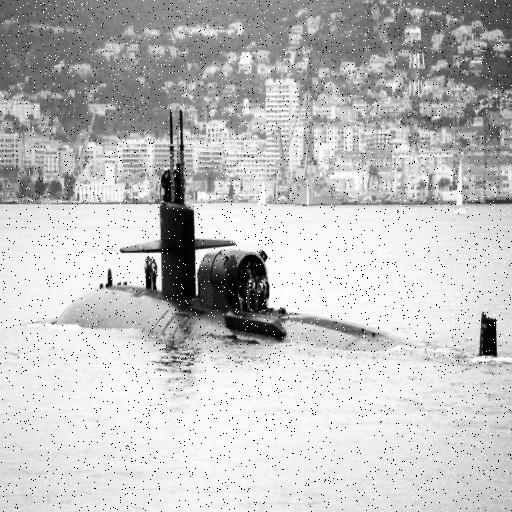submarine: (56, 109, 499, 359)
